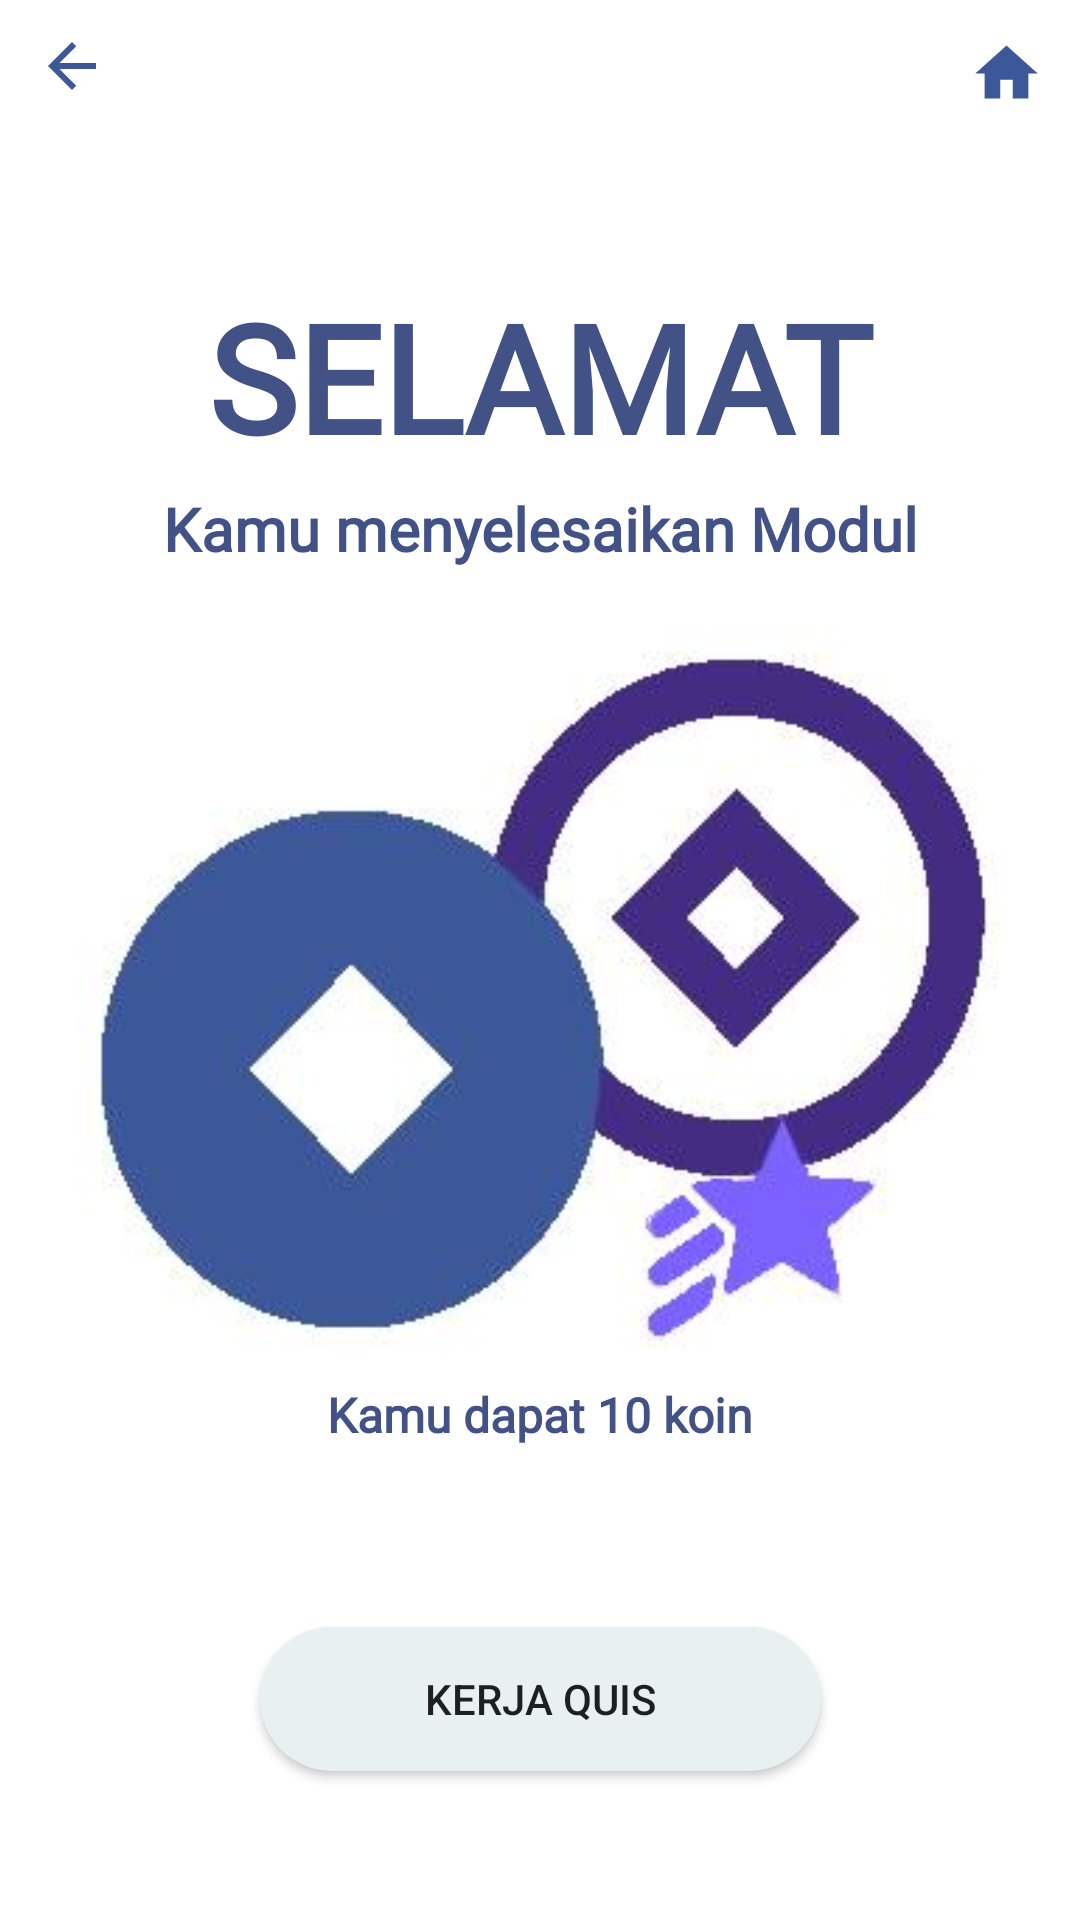

Locate icon controls on the screen. Image size 1080px×1920px, boxes as (x1,y1,x2,y2).
back: (48,42,96,90)
home: (975,45,1038,99)
